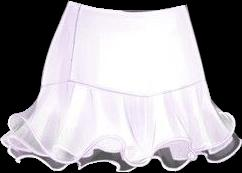Hemline: (1, 115, 236, 165)
Waistline: (41, 77, 205, 96), (68, 1, 185, 11)
